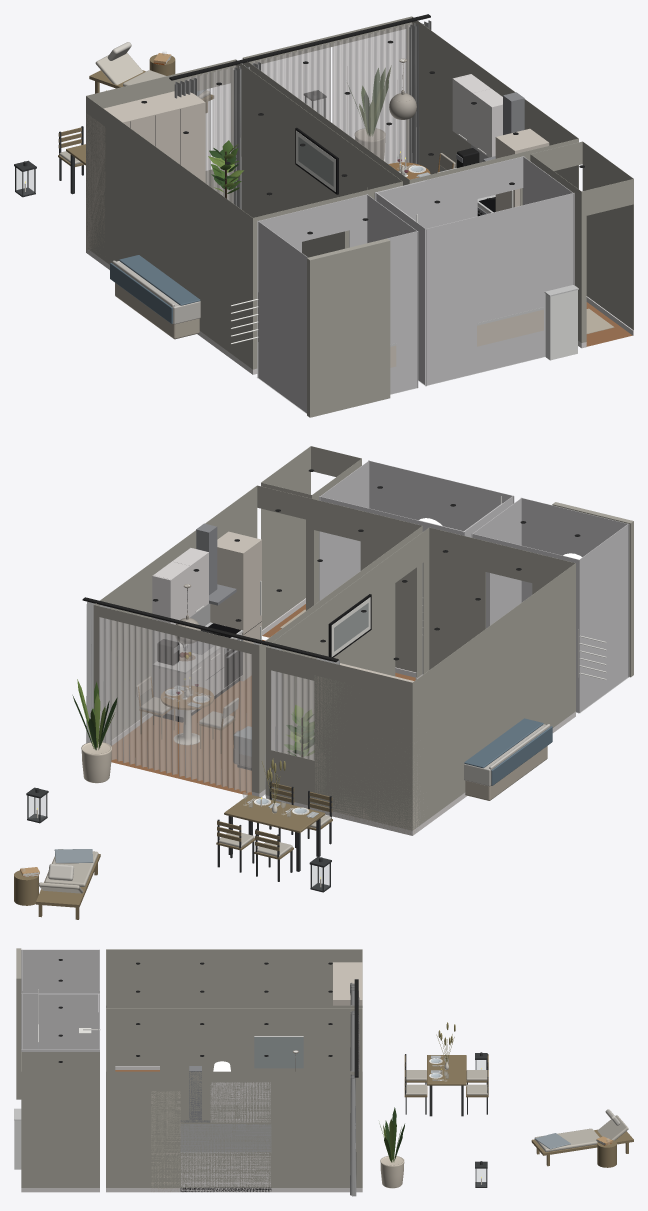
The model's file is unit-0.A-atlantic.glb.
3 views of the same model, one above another, from view 1: azimuth 30°, elevation 25°; view 2: azimuth 150°, elevation 25°; view 3: azimuth 270°, elevation 25° (orthographic). The views are drawn at different scales.
Parts seen in each view (by area): view 1: int-wall, int-bathWall, int-sheer, int-joineryTall, int-joinery, int-curtain, int-bedThrow, int-whiteGloss, int-matteBlack, int-teak, int-outCushion, int-showerWall (+9 smaller); view 2: int-wall, int-bathWall, int-sheer, int-joineryTall, int-floor, int-teak, int-joinery, int-curtain, int-outdoor, int-bedThrow, int-matteBlack, int-skirting (+10 smaller); view 3: int-wall, int-bathWall, int-joinery, int-showerWall, int-joineryTall, int-splash, int-teak, int-outCushion, int-skirting, int-art:3:0, int-curtain, int-matteBlack (+4 smaller).
Boxes of the visible parts, x1,y1,x2,y2 form: int-wall: (86,16,633,417); int-bathWall: (257,156,574,412); int-sheer: (186,23,412,203); int-joineryTall: (86,91,549,367); int-joinery: (452,74,502,213); int-curtain: (174,20,431,209); int-bedThrow: (110,255,200,323); int-whiteGloss: (545,290,577,360); int-matteBlack: (169,14,495,199); int-teak: (58,54,213,166); int-outCushion: (59,53,209,164); int-showerWall: (375,181,425,228); int-wall: (93,446,633,830); int-bathWall: (319,460,629,713); int-sheer: (99,617,314,792); int-joineryTall: (210,531,423,834); int-floor: (111,639,415,795); int-teak: (14,782,332,919); int-joinery: (152,548,241,717); int-curtain: (86,601,339,795); int-outdoor: (26,781,331,892); int-bedThrow: (464,718,552,785); int-matteBlack: (82,597,338,722); int-skirting: (111,598,575,835); int-wall: (16,948,362,1187); int-bathWall: (21,949,99,1051); int-joinery: (181,1082,270,1187); int-showerWall: (38,994,99,1048); int-joineryTall: (151,962,362,1192); int-splash: (180,1124,271,1151); int-teak: (404,1055,633,1167); int-outCushion: (405,1070,628,1152); int-skirting: (21,1066,362,1192); int-art:3:0: (254,1037,303,1068); int-curtain: (350,982,356,1196); int-matteBlack: (180,979,358,1191).
Size of the model in its own units: 6.62 by 2.92 by 12.54.
